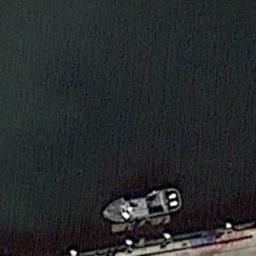boat: (100, 185, 182, 225)
